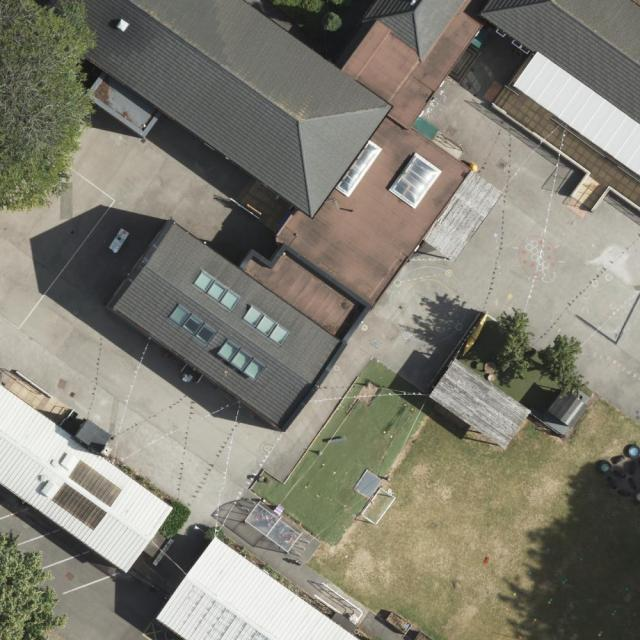roof: (7, 0, 504, 435), (0, 380, 174, 573), (480, 0, 640, 180), (156, 537, 365, 640)
skylight: (389, 152, 443, 211), (335, 139, 384, 198), (215, 339, 267, 382), (240, 306, 292, 347), (168, 306, 219, 347), (192, 271, 241, 311)
